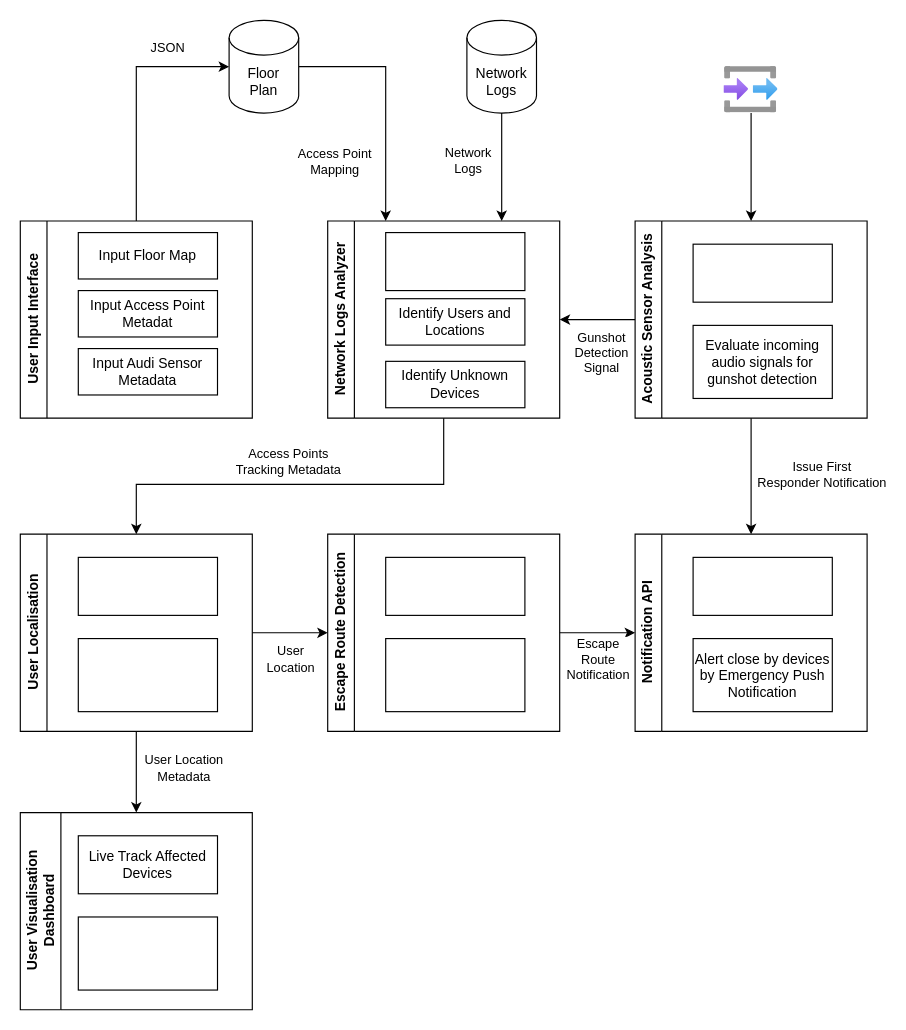
Some shapes in this 906 by 1030 pixel diagram are drawn without their labels. The centre of each missing label's shape, as x and y in pixels:
Acoustic Signal: pixel 750 89
Connect to Centralized Logging Server: pixel 455 261
Connect to the Acoustic Sensor Interface: pixel 762 272
Detect User Groups on nearby locations: pixel 147 953
Generate a Safe Route avoiding Emergency Blockers: pixel 455 674
Identify the closest Exit Points: pixel 455 585
Initiate Affected Device Live Tracking: pixel 147 674
Initiate First Responder Notification: pixel 762 585
Triangulate User Location: pixel 147 585
